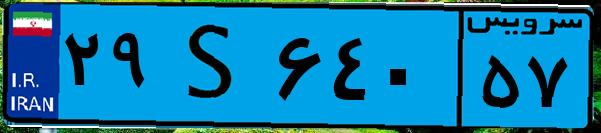0: (385, 28, 445, 110)
2: (57, 26, 110, 100)
4: (330, 28, 385, 110)
5: (475, 38, 525, 113)
6: (270, 28, 330, 110)
7: (525, 38, 570, 115)
9: (110, 28, 158, 98)
S: (158, 12, 270, 120)
